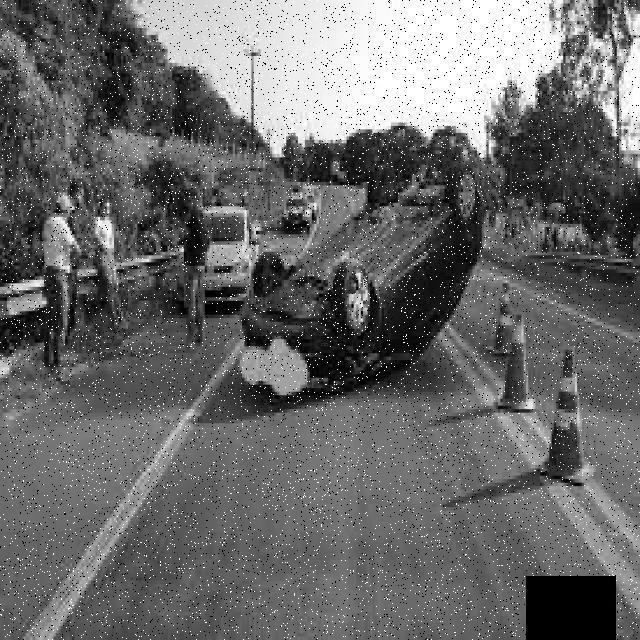accident: (238, 158, 487, 403)
vehicle: (178, 206, 260, 313), (281, 193, 312, 235), (302, 188, 321, 217)
